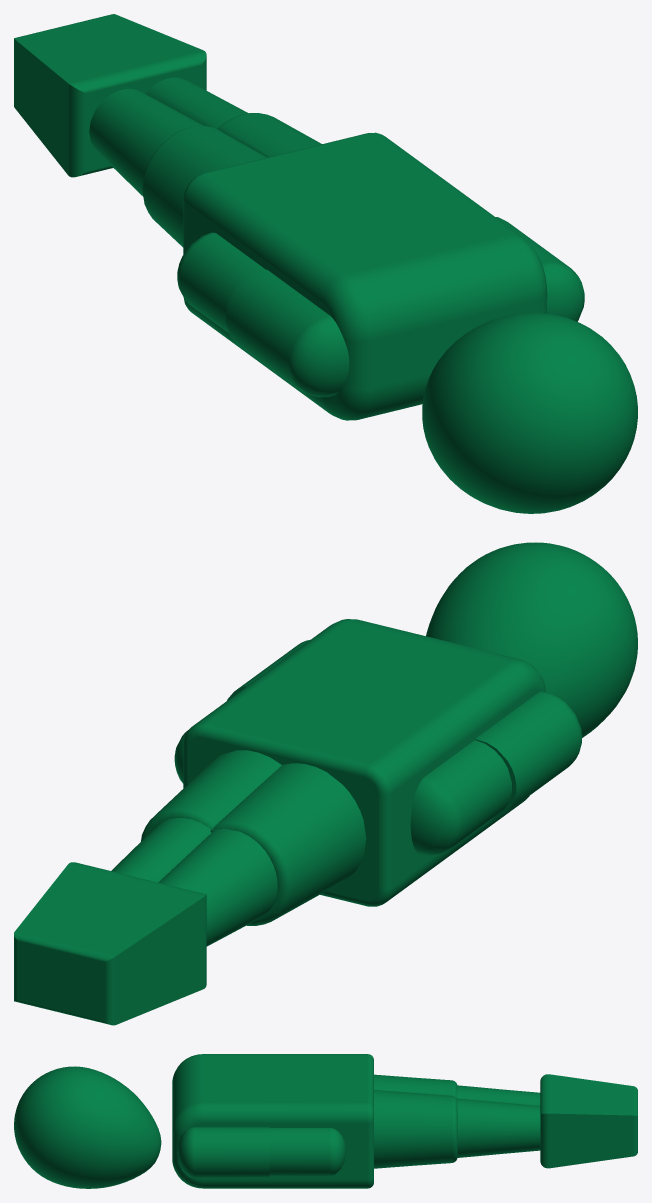
Rendered from Jugador_4.fbx.
3 views of the same model, one above another, from view 1: azimuth 30°, elevation 25°; view 2: azimuth 150°, elevation 25°; view 3: azimuth 270°, elevation 25° (orthographic). The views are drawn at different scales.
Visible parts, largest first — view 1: Objeto_2, Objeto_1, Objeto_3; view 2: Objeto_2, Objeto_3, Objeto_1; view 3: Objeto_2, Objeto_1, Objeto_3.
Part boxes in pixels (x1,y1,x2,y2): Objeto_2: (142, 113, 584, 420); Objeto_1: (422, 312, 637, 513); Objeto_3: (14, 14, 248, 196); Objeto_2: (141, 619, 582, 925); Objeto_3: (14, 818, 277, 1025); Objeto_1: (426, 542, 637, 737); Objeto_2: (172, 1054, 457, 1188); Objeto_1: (14, 1066, 161, 1188); Objeto_3: (456, 1074, 637, 1168).
Bounding box in the file's own units: 12.98 × 7.86 × 40.19.
